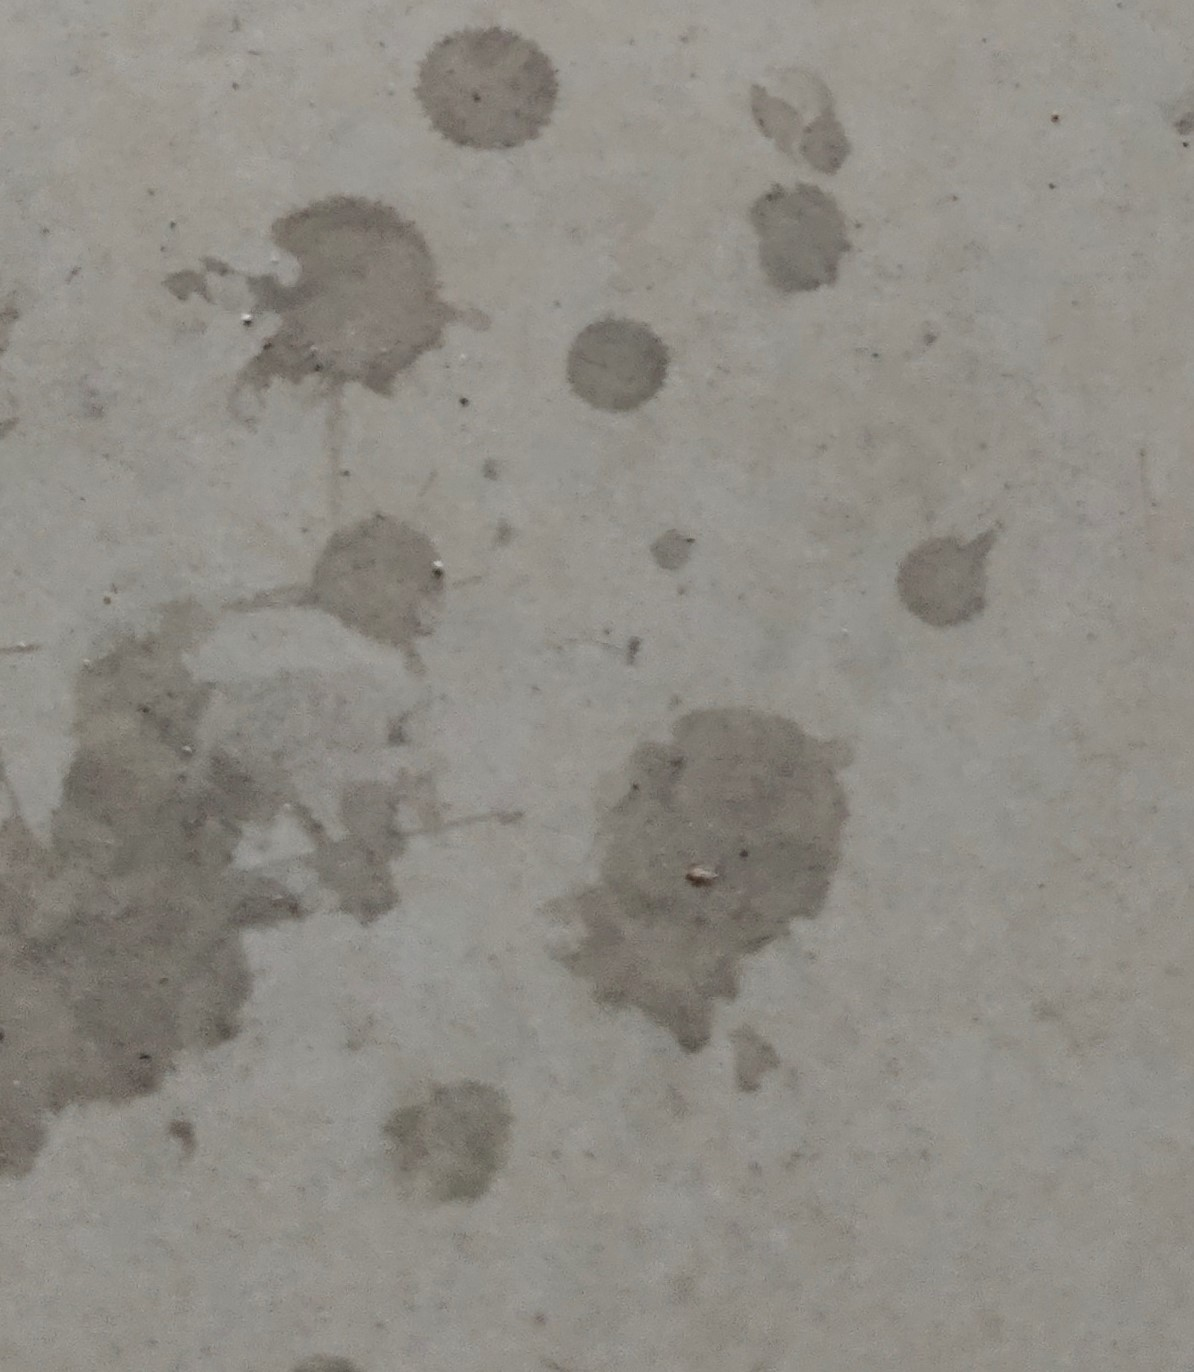grey spot: (1, 600, 528, 1185), (529, 707, 849, 1053), (161, 196, 497, 393), (222, 508, 446, 678), (412, 21, 557, 150), (384, 1077, 511, 1199), (752, 185, 856, 292), (754, 71, 856, 174), (894, 527, 996, 629), (570, 316, 669, 414), (734, 1027, 784, 1095)
